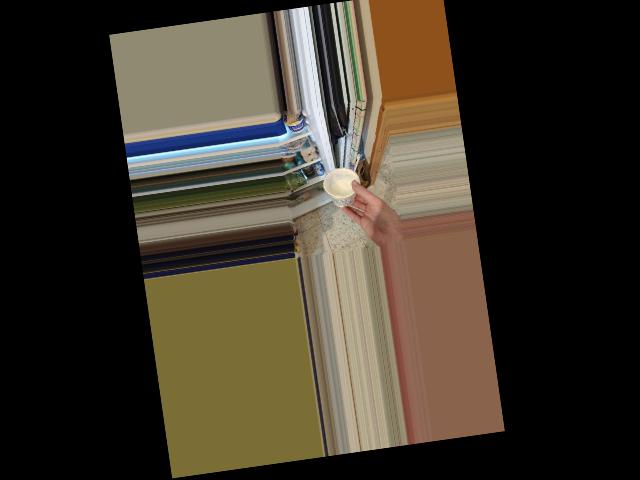cotage: (326, 162, 358, 210)
